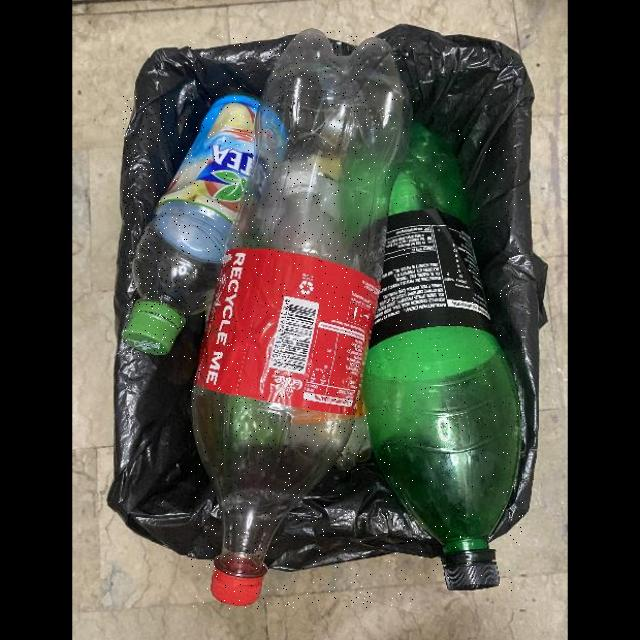plastic: (190, 32, 414, 609), (363, 124, 523, 592), (123, 95, 259, 357)
